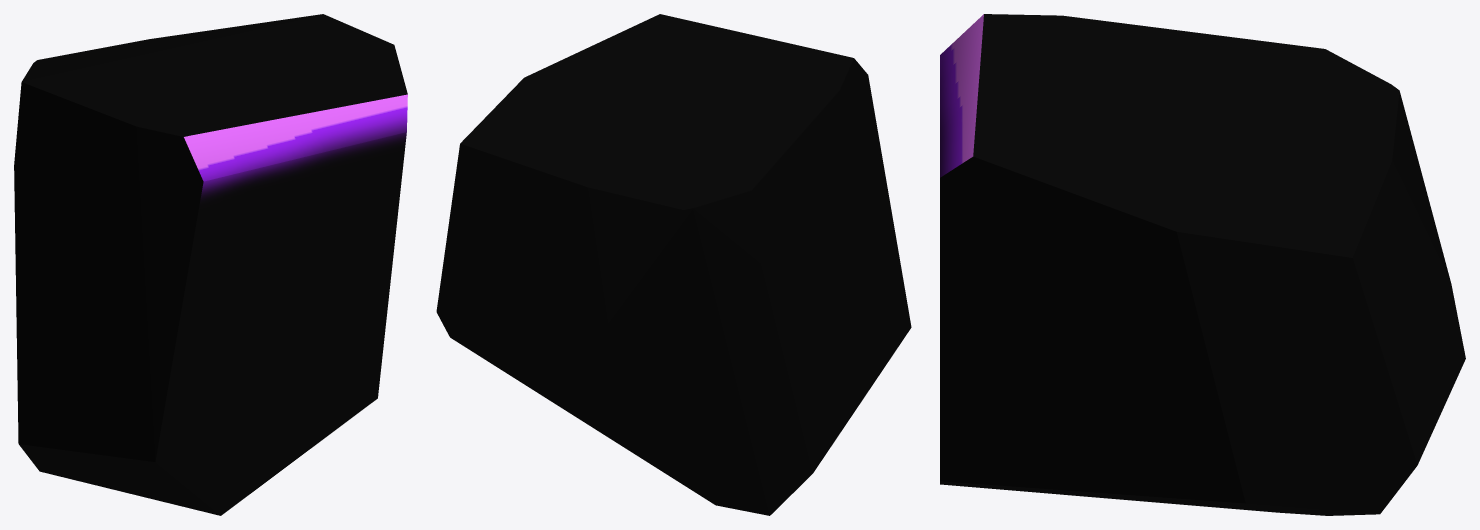
Rendered from blockParticle_9.obj.
3 views of the same model, side by side, from view 1: azimuth 30°, elevation 25°; view 2: azimuth 150°, elevation 25°; view 3: azimuth 270°, elevation 25° (orthographic). The views are drawn at different scales.
Parts seen in each view (by area): view 1: 立方体_cell.010; view 2: 立方体_cell.010; view 3: 立方体_cell.010.
Part boxes in pixels (x1,y1,x2,y2): 立方体_cell.010: (14, 14, 407, 515); 立方体_cell.010: (436, 14, 911, 515); 立方体_cell.010: (940, 14, 1465, 515).
Bounding box in the file's own units: 1.24 × 1.41 × 1.31.
Materials: 2 (2 with a texture image).
